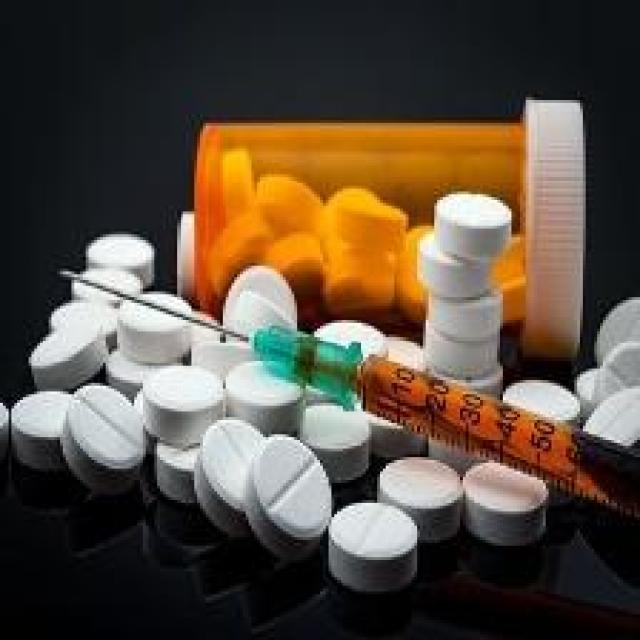Medicine: (0, 151, 632, 622)
